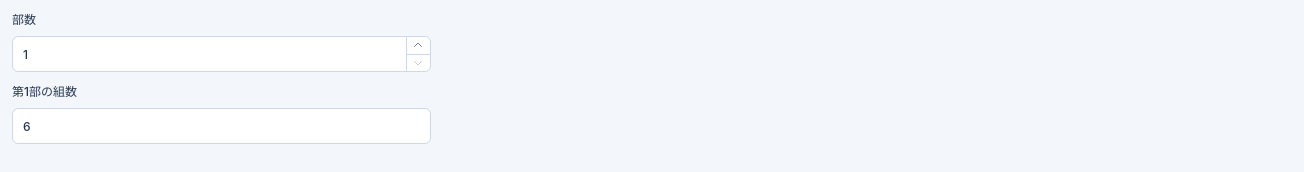
Test: changes the part count with the step buttons, keeping existing band counts
The image size is (1304, 172).
Expected: the button named "部数を減らす" is disabled, [407,54,430,71]
Step 1. Click the button named "部数を増やす" → (418, 46), box [407,37,430,54]
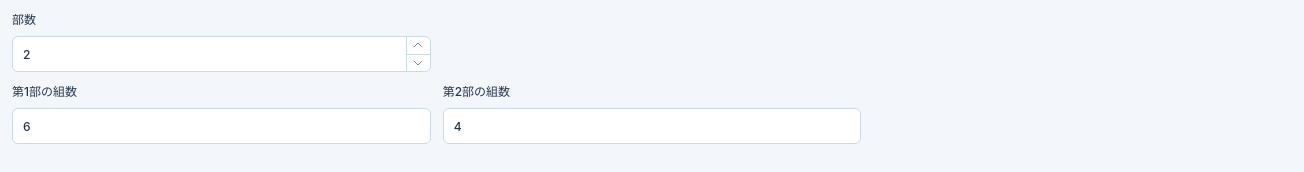
Step 2. Click the button named "部数を増やす" → (418, 46), box [407,37,430,54]
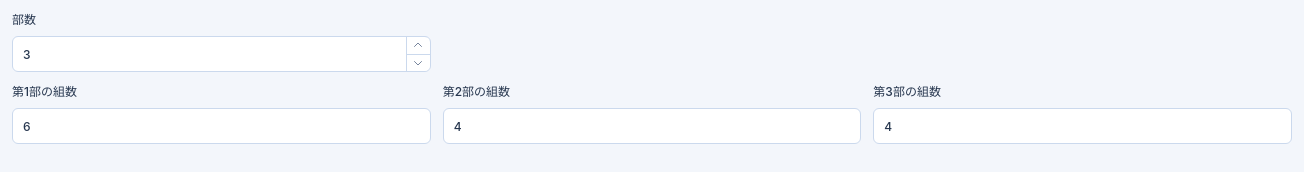
Expected: the number field labelled "部数" holds "3", [12,36,431,72]
Expected: the number field labelled "第3部の組数" holds "4", [873,108,1292,144]
Step 3. Click the button named "部数を減らす" → (418, 63), box [407,54,430,71]
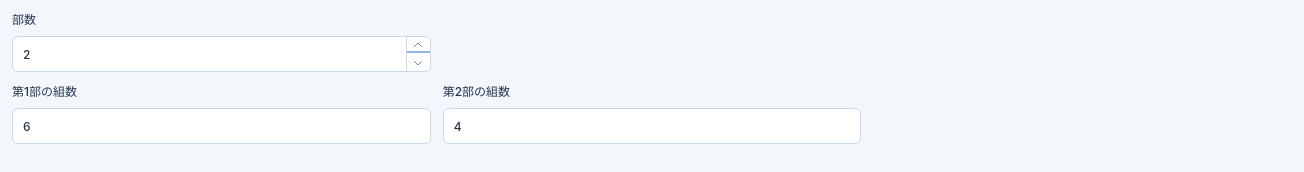
Expected: the number field labelled "部数" holds "2", [12,36,431,72]
Expected: the label "第3部の組数" is gone
